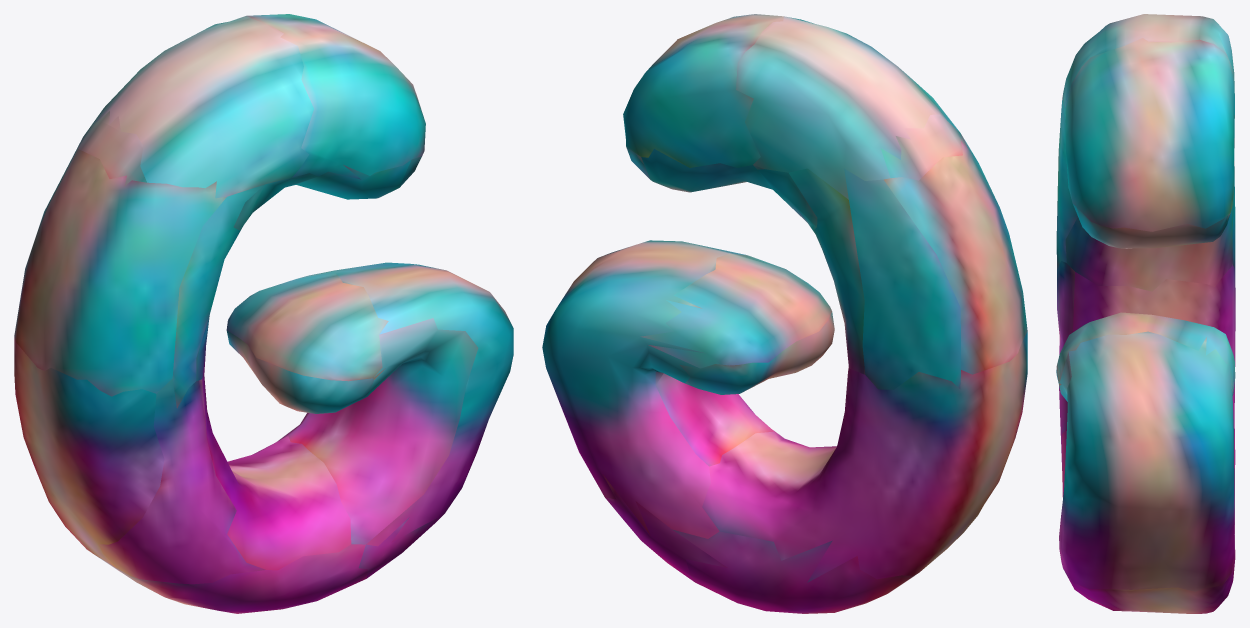
3 renders of one model, left to right at view 1: azimuth 30°, elevation 25°; view 2: azimuth 150°, elevation 25°; view 3: azimuth 270°, elevation 25°, orthographic.
Parts seen in each view (by area): view 1: Candy-Letter-G; view 2: Candy-Letter-G; view 3: Candy-Letter-G.
Part boxes in pixels (x1,y1,x2,y2): Candy-Letter-G: [14, 14, 513, 613]; Candy-Letter-G: [542, 14, 1027, 613]; Candy-Letter-G: [1056, 14, 1235, 613].
Bounding box in the file's own units: 0.3032 × 0.3603 × 0.104.
Materials: 1 (1 with a texture image).
